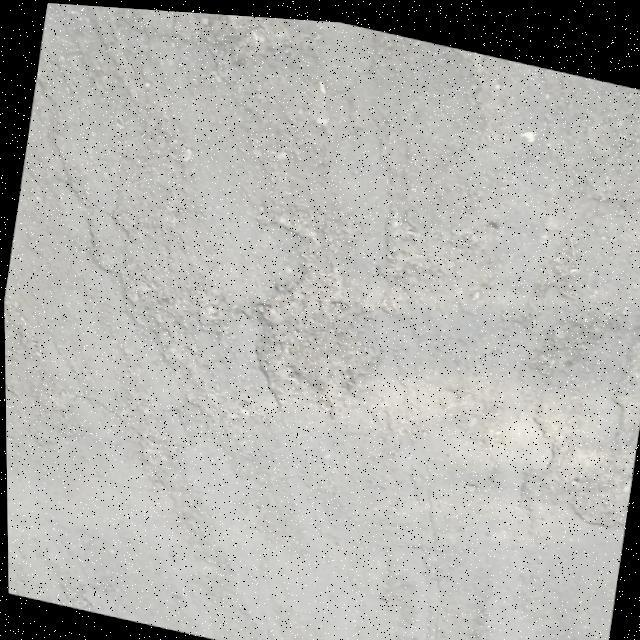pothole: (230, 229, 395, 412)
